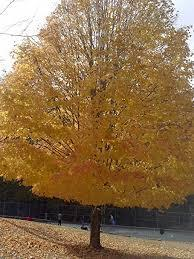tree: (1, 1, 194, 250)
